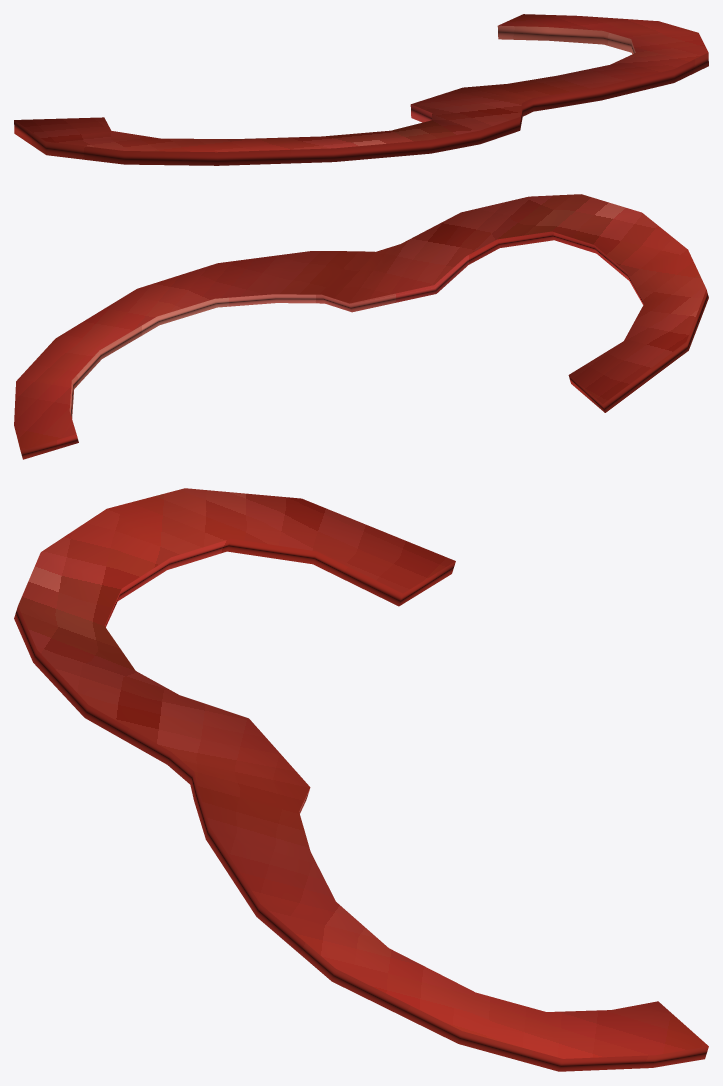
Rendered from redPepper.glb.
3 views of the same model, one above another, from view 1: azimuth 30°, elevation 25°; view 2: azimuth 150°, elevation 25°; view 3: azimuth 270°, elevation 25° (orthographic). The views are drawn at different scales.
Visible parts, largest first — view 1: pepper.004; view 2: pepper.004; view 3: pepper.004.
Boxes of the visible parts, <box> form: pepper.004: <box>14,14,708,165</box>; pepper.004: <box>14,194,708,459</box>; pepper.004: <box>14,488,708,1071</box>.
Size of the model in its own units: 3.03 by 0.848 by 2.22.
Materials: 1 (1 with a texture image).
